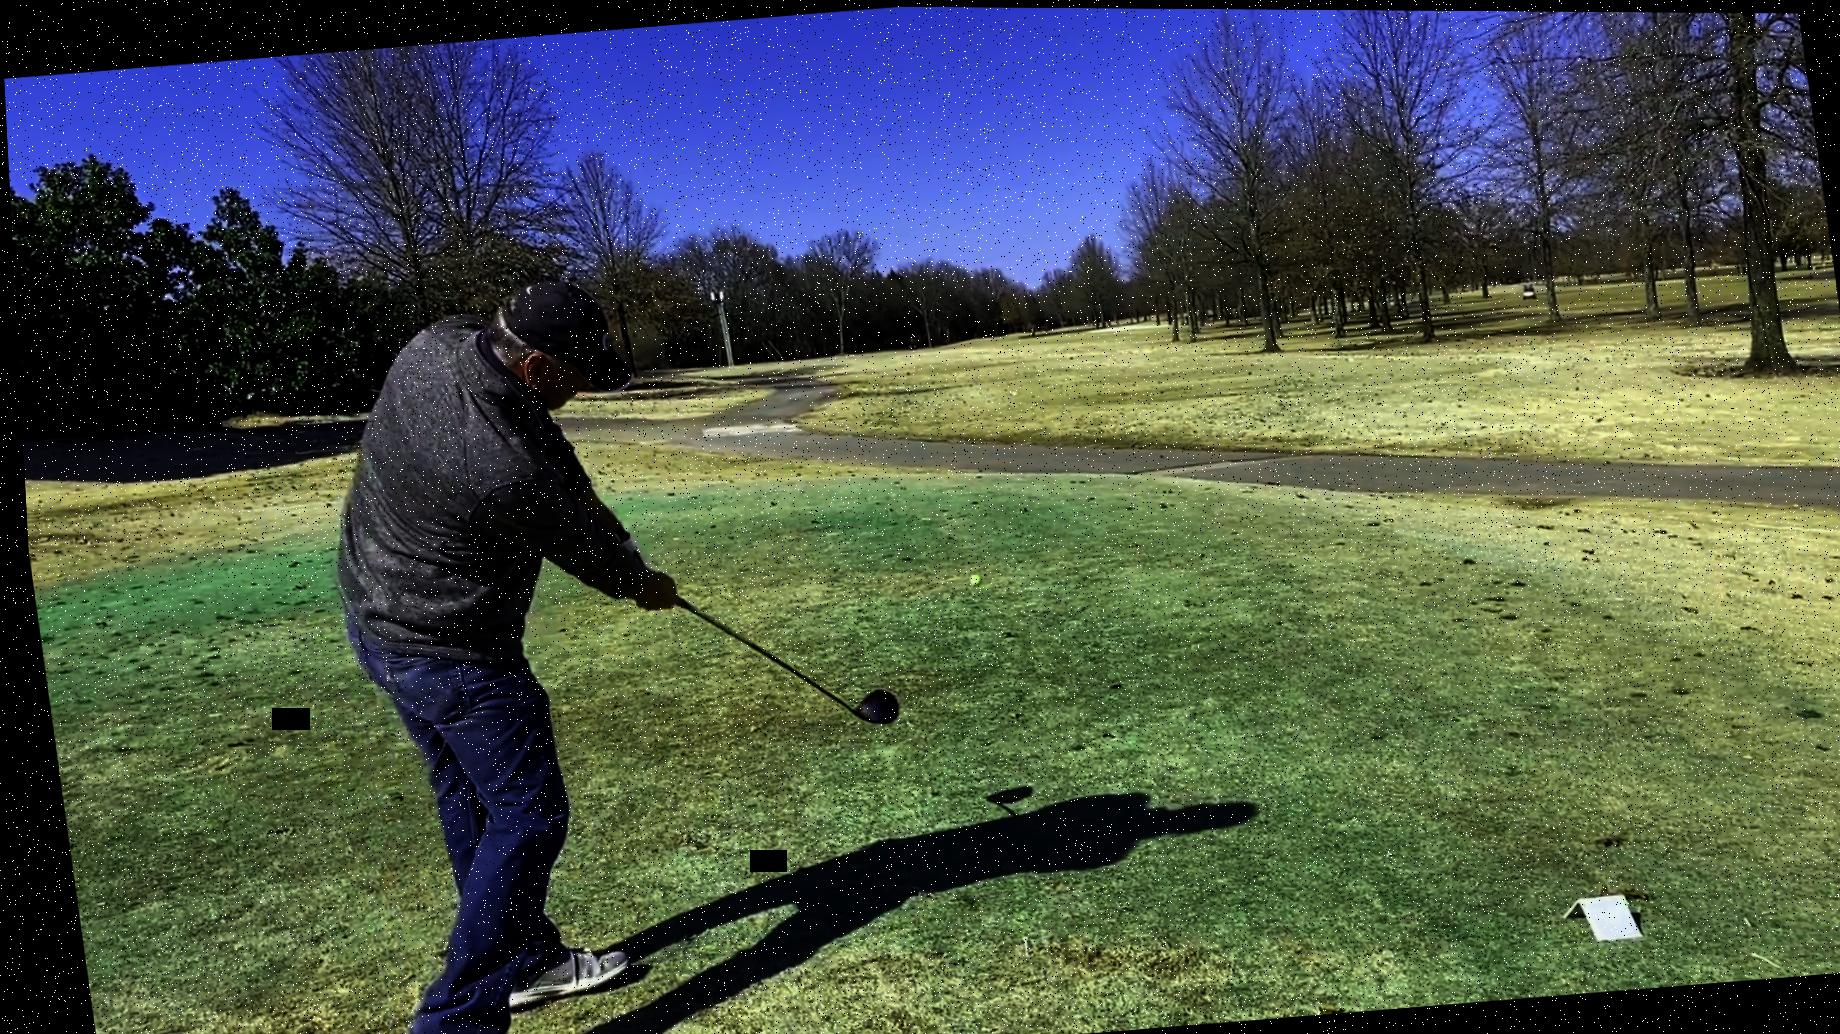ClubHead: (835, 680, 896, 728)
GolfBall: (960, 571, 976, 587)
